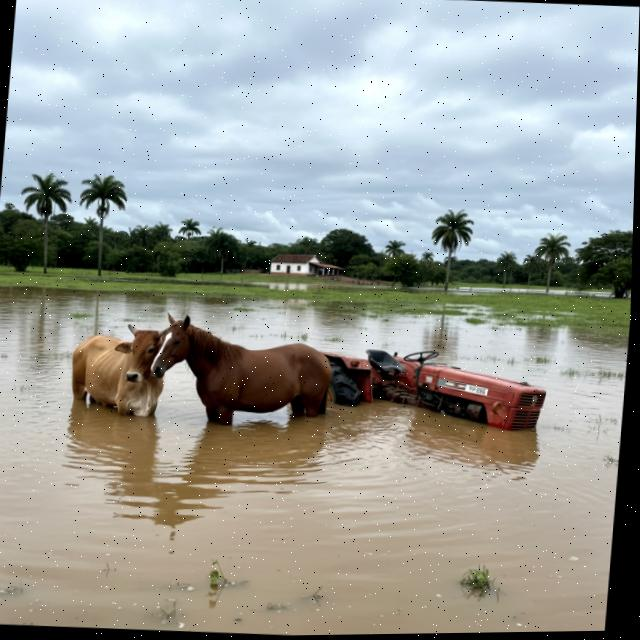cow: (56, 313, 173, 430)
horse: (144, 307, 347, 443)
